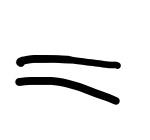eqv: (16, 55, 121, 104)
